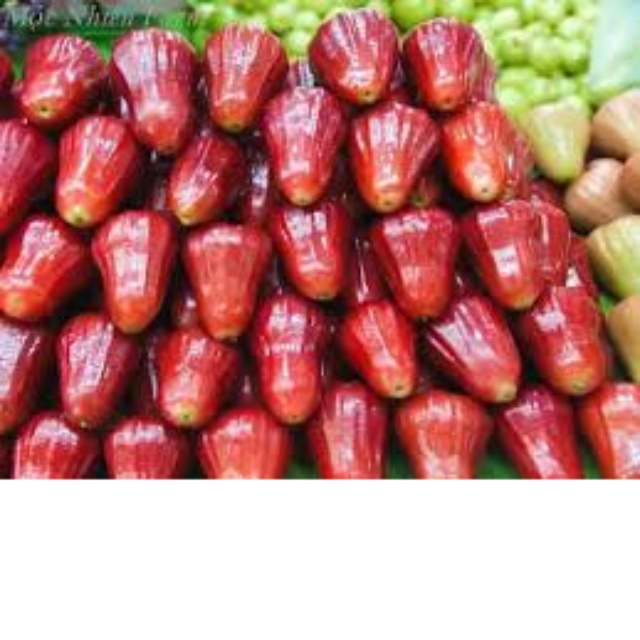xoai: (110, 25, 200, 153), (522, 288, 623, 398), (93, 214, 181, 337), (246, 294, 330, 417), (183, 231, 276, 340), (435, 299, 527, 405), (17, 28, 114, 126), (464, 199, 549, 308), (51, 119, 140, 223), (346, 103, 433, 208), (307, 3, 398, 103), (373, 212, 461, 315), (143, 332, 238, 427), (266, 91, 340, 208), (338, 294, 420, 398), (439, 103, 515, 213), (503, 382, 589, 479), (4, 221, 88, 320), (57, 310, 129, 425), (393, 387, 482, 479), (310, 379, 390, 481), (198, 18, 272, 128), (269, 196, 347, 295), (403, 14, 482, 110), (167, 134, 247, 219)
